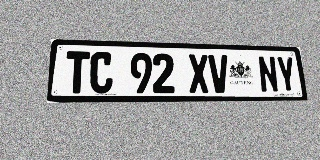2: (153, 53, 175, 93)
9: (131, 53, 153, 93)
C: (89, 52, 113, 93)
N: (257, 56, 279, 93)
T: (65, 51, 90, 93)
V: (208, 55, 230, 93)
X: (188, 54, 210, 93)
Y: (276, 56, 298, 93)
